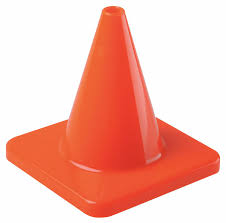cones: (3, 7, 222, 216)
